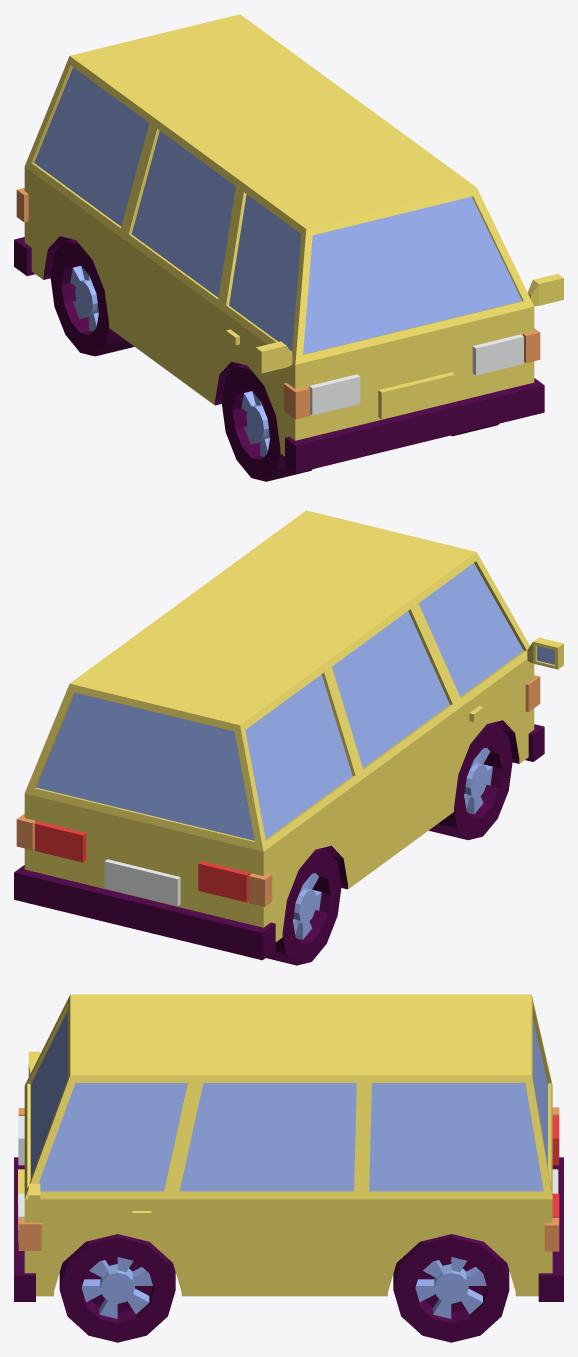
Rendered from car3.glb.
3 renders of one model, top to bottom at view 1: azimuth 30°, elevation 25°; view 2: azimuth 150°, elevation 25°; view 3: azimuth 270°, elevation 25°, orthographic. The views are drawn at different scales.
Parts seen in each view (by area): view 1: van_with_wheels_and_lights, wheel_br, wheel_fr, lights_head; view 2: van_with_wheels_and_lights, wheel_fr, wheel_br, lights_brakes; view 3: van_with_wheels_and_lights, wheel_fl, wheel_bl, lights_brakes, lights_head.
Boxes of the visible parts, <box> form: van_with_wheels_and_lights: <box>14,14,563,472</box>; wheel_br: <box>50,239,134,356</box>; wheel_fr: <box>221,364,312,481</box>; lights_head: <box>309,334,523,415</box>; van_with_wheels_and_lights: <box>14,510,563,960</box>; wheel_fr: <box>429,723,512,840</box>; wheel_br: <box>266,848,341,965</box>; lights_brakes: <box>35,821,249,902</box>; van_with_wheels_and_lights: <box>14,994,563,1301</box>; wheel_fl: <box>59,1234,175,1342</box>; wheel_bl: <box>393,1234,509,1342</box>; lights_brakes: <box>552,1116,559,1217</box>; lights_head: <box>18,1116,24,1242</box>.
Bounding box in the file's own units: 1.35 × 1.11 × 2.19.
Materials: 1 (1 with a texture image).
